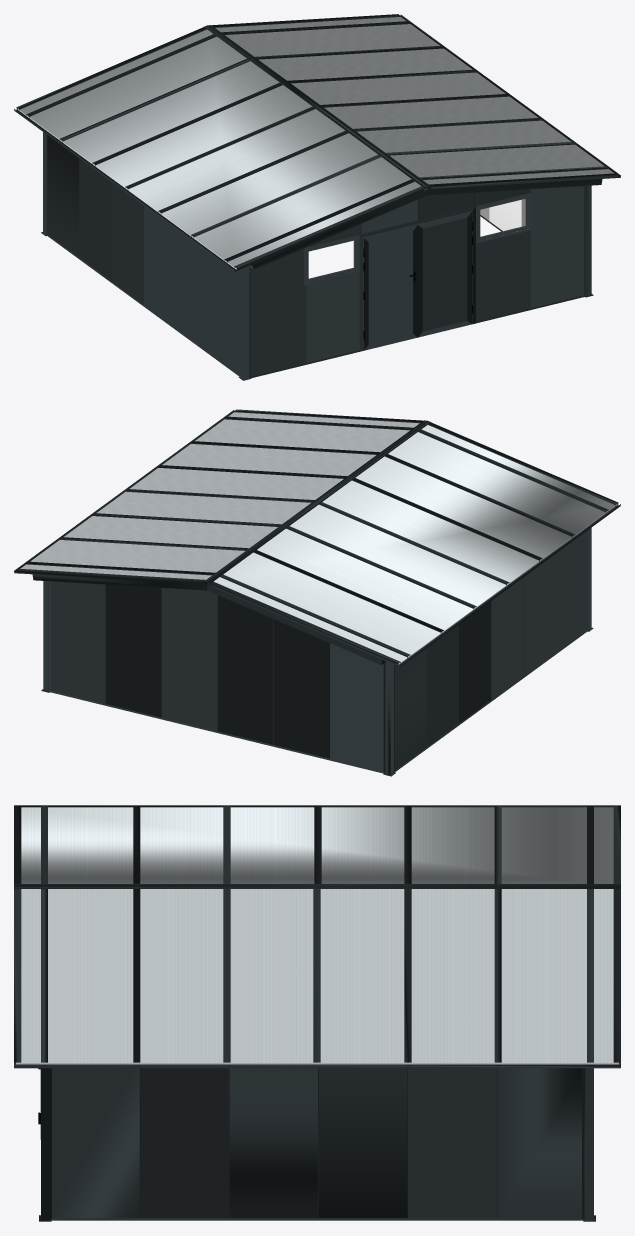
The picture shows the model from 3 angles, top to bottom: view 1: azimuth 30°, elevation 25°; view 2: azimuth 150°, elevation 25°; view 3: azimuth 270°, elevation 25°; orthographic projection. The views are drawn at different scales.
Visible parts, largest first — view 1: priximbattable_net_abris_de_jardin_640007_abri_de_jardin_lav, folha_2, folha, porta_avec_hublot; view 2: priximbattable_net_abris_de_jardin_640007_abri_de_jardin_lav; view 3: priximbattable_net_abris_de_jardin_640007_abri_de_jardin_lav.
Part boxes in pixels (box(x1,y1,x2,y2)): priximbattable_net_abris_de_jardin_640007_abri_de_jardin_lav: box(14, 14, 620, 380); folha_2: box(363, 224, 417, 350); folha: box(418, 211, 473, 337); porta_avec_hublot: box(359, 206, 475, 351); priximbattable_net_abris_de_jardin_640007_abri_de_jardin_lav: box(14, 409, 620, 776); priximbattable_net_abris_de_jardin_640007_abri_de_jardin_lav: box(14, 805, 620, 1221).
Bounding box in the file's own units: 689 × 270 × 680.
Materials: 1 (1 with a texture image).
